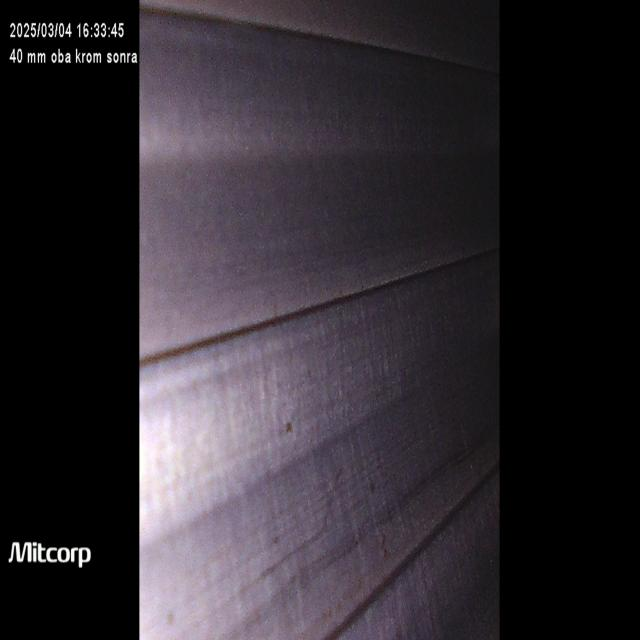hata_4.2: (266, 289, 296, 341), (358, 461, 384, 507), (264, 526, 292, 561), (280, 403, 300, 443), (388, 606, 410, 640), (376, 526, 393, 568), (160, 603, 179, 638)
